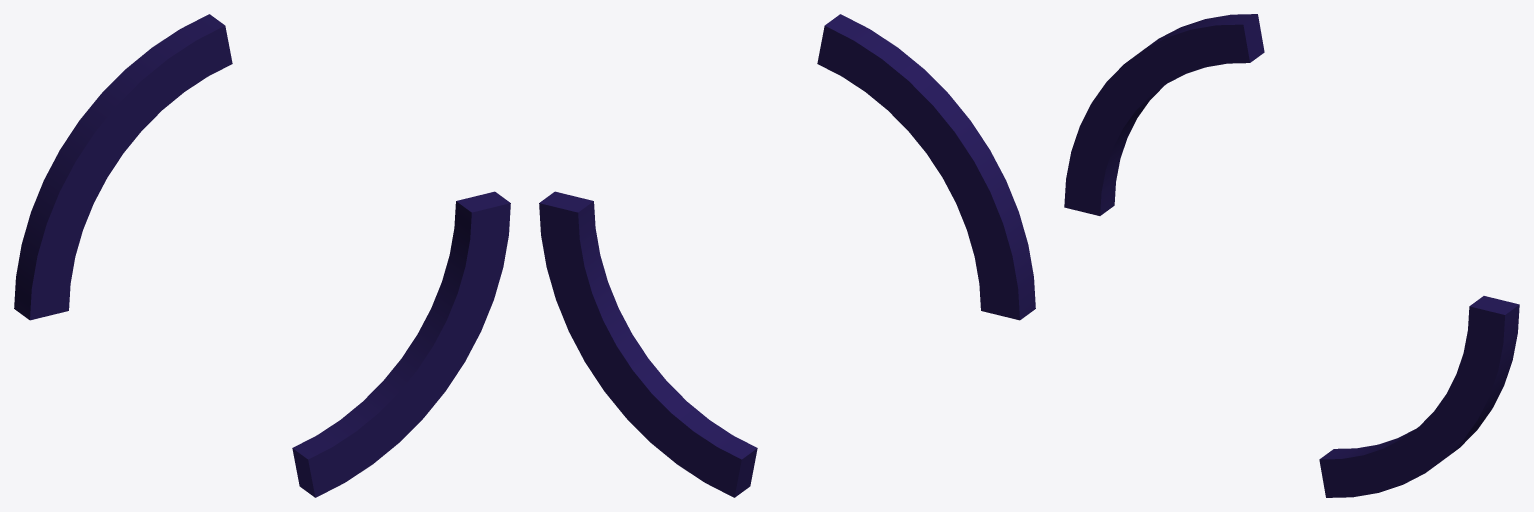
3 renders of one model, left to right at view 1: azimuth 30°, elevation 25°; view 2: azimuth 150°, elevation 25°; view 3: azimuth 330°, elevation 25°, orthographic. The views are drawn at different scales.
Visible parts, largest first — view 1: QuardCircle, QuardCircle (2); view 2: QuardCircle, QuardCircle (2); view 3: QuardCircle, QuardCircle (2).
Boxes of the visible parts, x1,y1,x2,y2 form: QuardCircle: [14, 14, 232, 320]; QuardCircle (2): [292, 191, 510, 497]; QuardCircle: [817, 14, 1035, 320]; QuardCircle (2): [539, 191, 757, 497]; QuardCircle: [1064, 14, 1264, 215]; QuardCircle (2): [1319, 296, 1519, 497].
Bounding box in the file's own units: 69.66 × 68.42 × 3.97.
